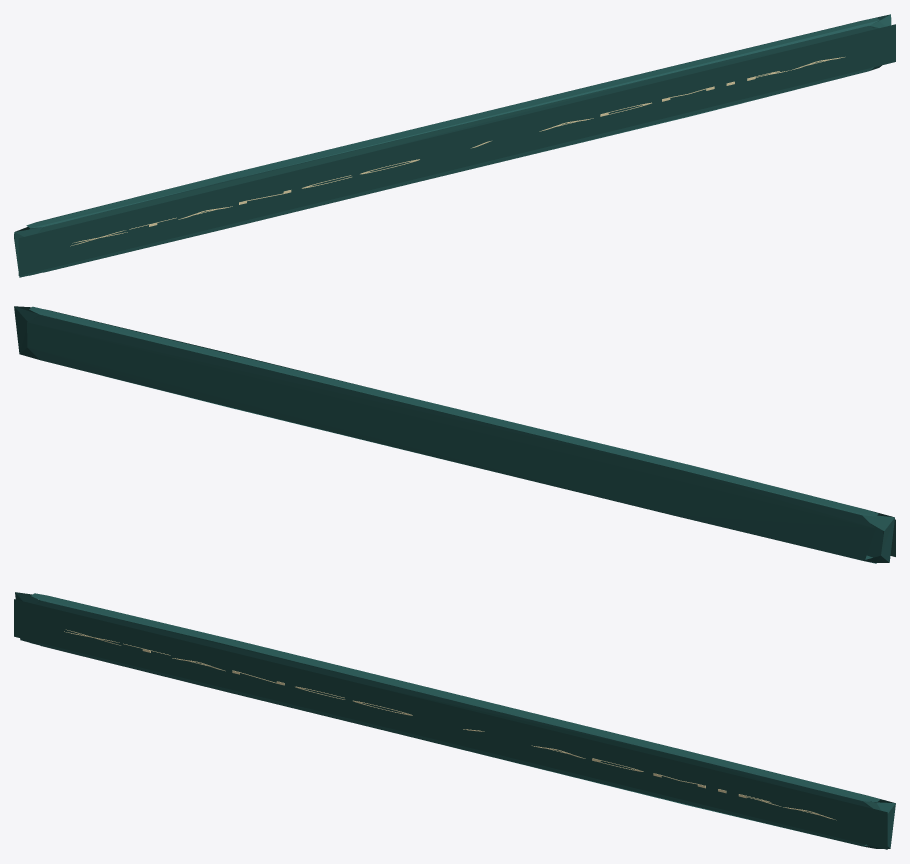
Rendered from good.glb.
The picture shows the model from 3 angles, top to bottom: view 1: azimuth 30°, elevation 25°; view 2: azimuth 150°, elevation 25°; view 3: azimuth 330°, elevation 25°; orthographic projection.
Parts seen in each view (by area): view 1: Native component 1, Native component 0, Sign XTANCO / ADMIRA; view 2: Native component 0; view 3: Native component 1, Native component 0, Sign XTANCO / ADMIRA.
Boxes of the visible parts, left/top/right/bottom form: Native component 1: left=18, top=24, right=895, bottom=275; Native component 0: left=14, top=14, right=891, bottom=277; Sign XTANCO / ADMIRA: left=70, top=57, right=844, bottom=246; Native component 0: left=14, top=306, right=894, bottom=563; Native component 1: left=14, top=599, right=887, bottom=849; Native component 0: left=15, top=592, right=895, bottom=848; Sign XTANCO / ADMIRA: left=64, top=629, right=836, bottom=820.
Bounding box in the file's own units: 5.37 × 0.2832 × 0.0951.
